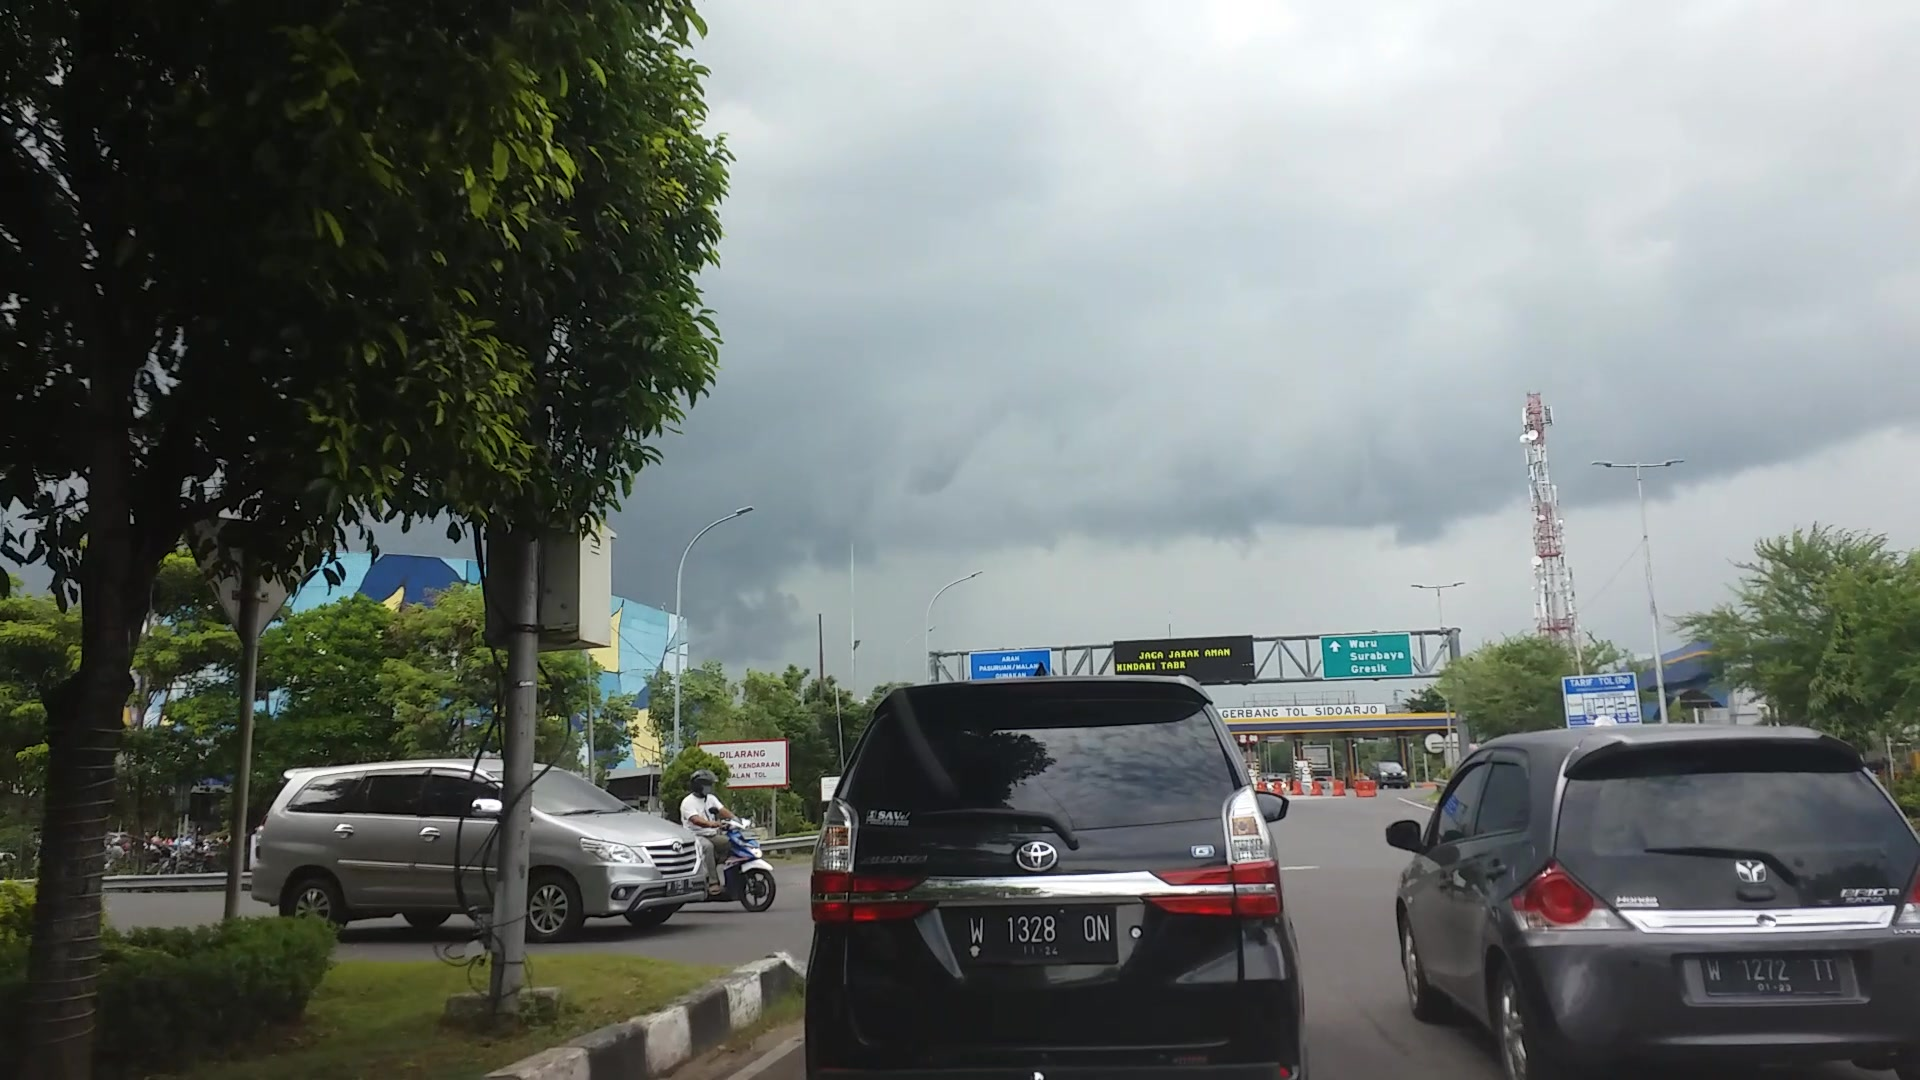plate_positive: (963, 906, 1118, 965), (1700, 953, 1840, 996)
